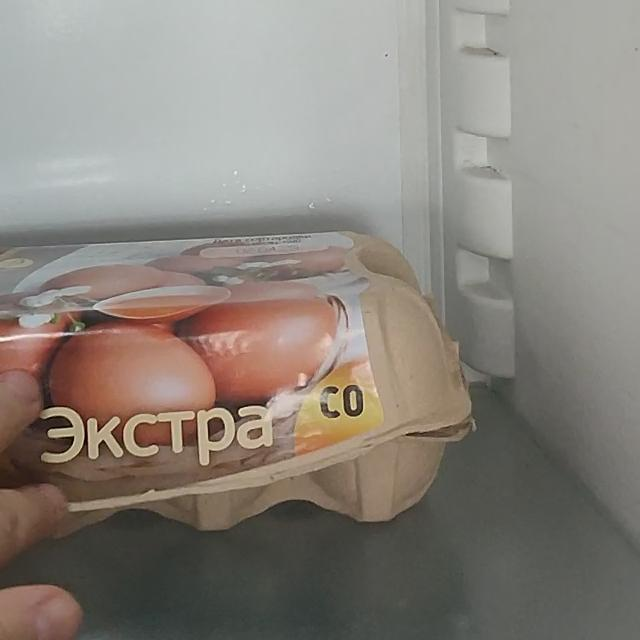egg: (0, 189, 481, 563)
